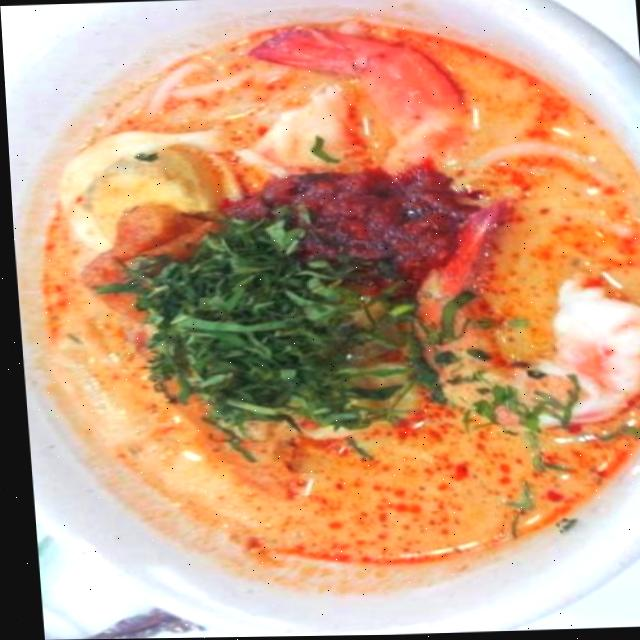面条主食: (15, 4, 640, 631)
